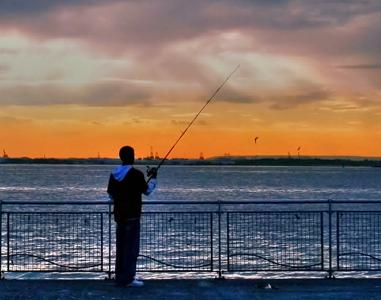person: (107, 146, 158, 289)
